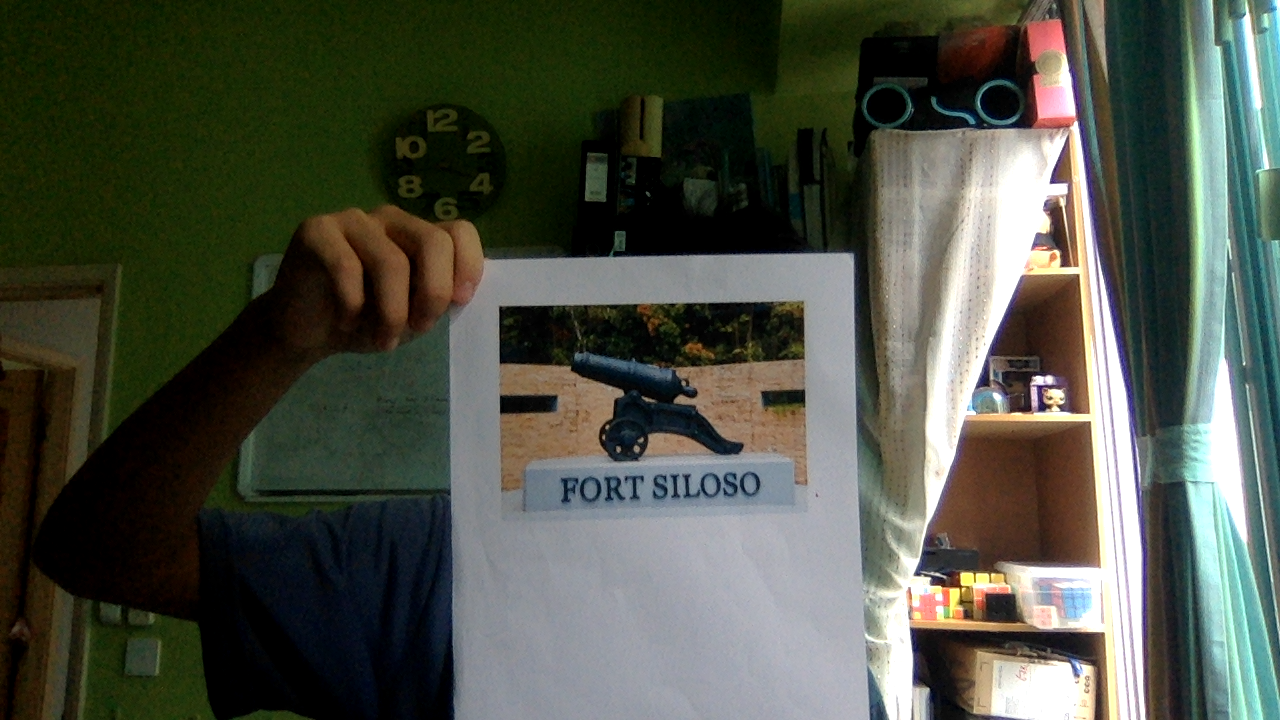siloso: (495, 285, 818, 521)
